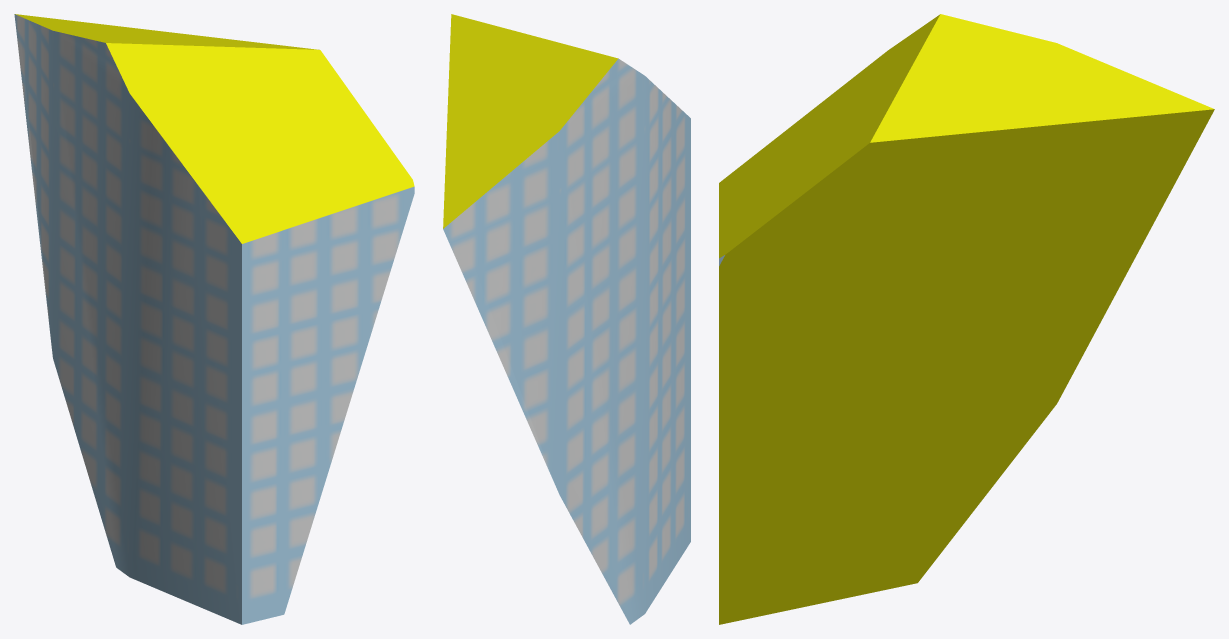
Rendered from mShard3.fbx.
The picture shows the model from 3 angles, left to right: view 1: azimuth 30°, elevation 25°; view 2: azimuth 150°, elevation 25°; view 3: azimuth 270°, elevation 25°; orthographic projection. The views are drawn at different scales.
Parts seen in each view (by area): view 1: shard33; view 2: shard33; view 3: shard33.
Boxes of the visible parts, <box> form: shard33: <box>14,14,414,624</box>; shard33: <box>443,14,690,624</box>; shard33: <box>719,14,1214,624</box>.
Size of the model in its own units: 0.1167 by 0.2752 by 0.2173.
2 materials, 1 textured.
